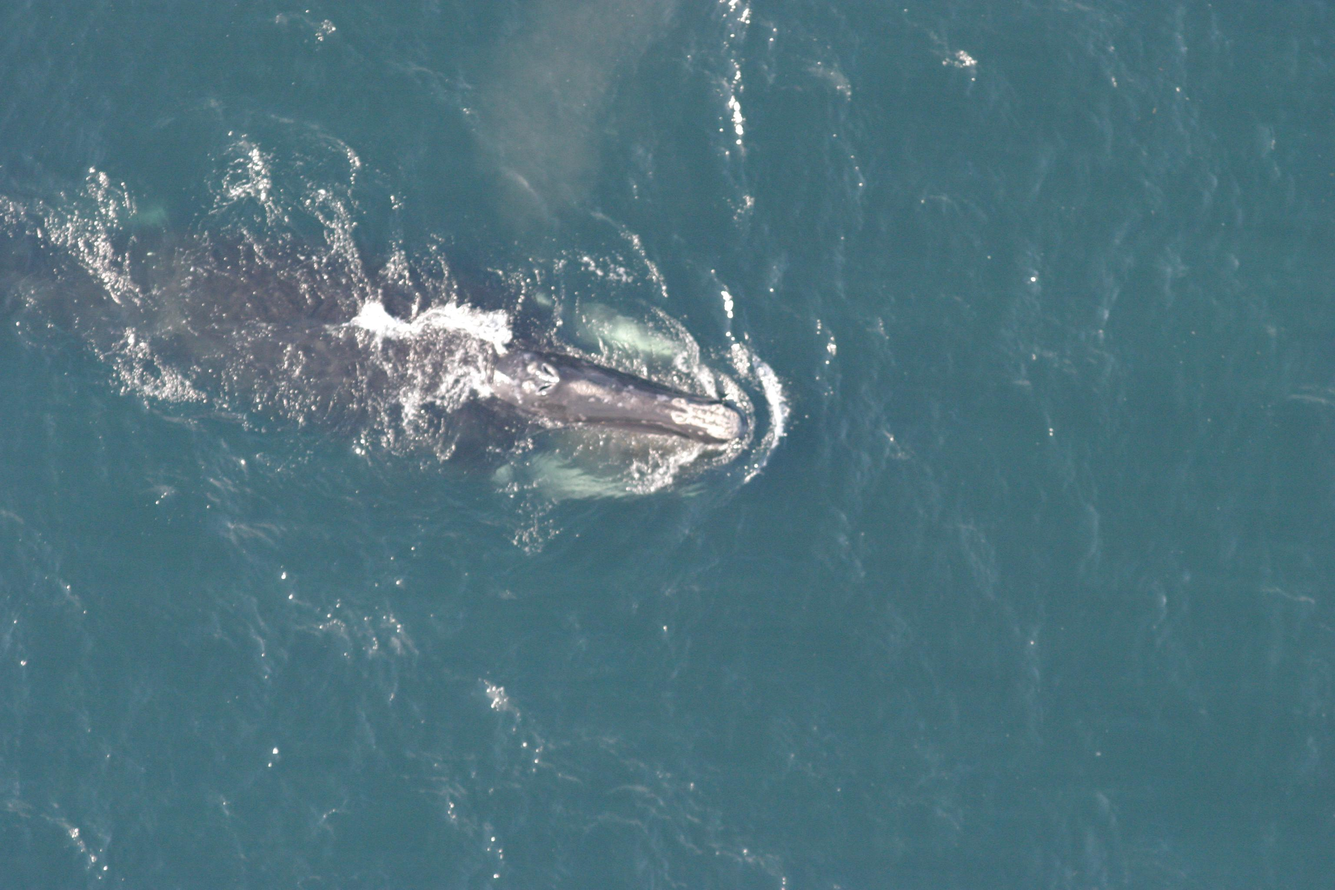whale: (0, 231, 758, 516)
